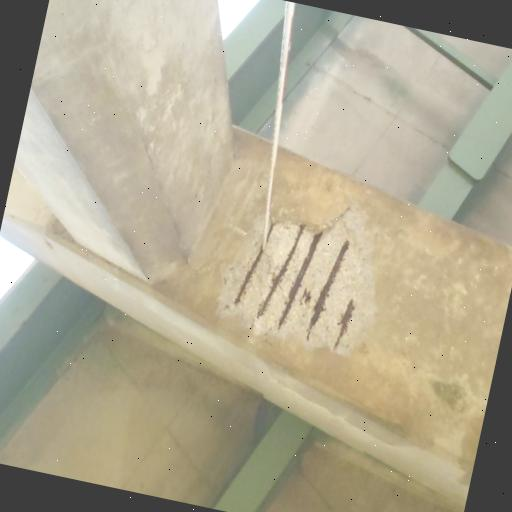spalling: (219, 205, 374, 356)
